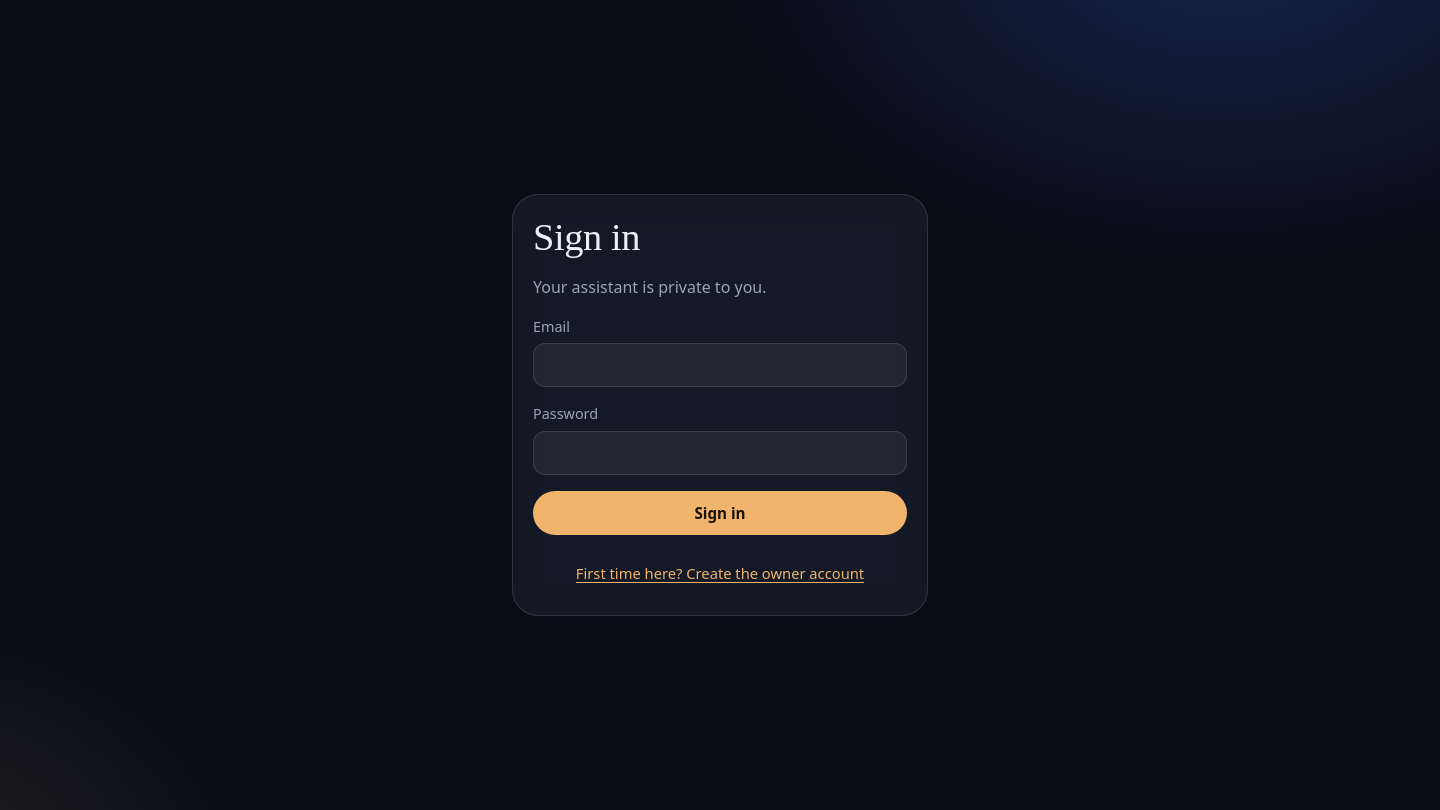
Test: AuthGate › creates the owner account, and reports when registration is closed
Click the button "First time here? Create the owner account" at point(720, 573), box [533,551,907,595]
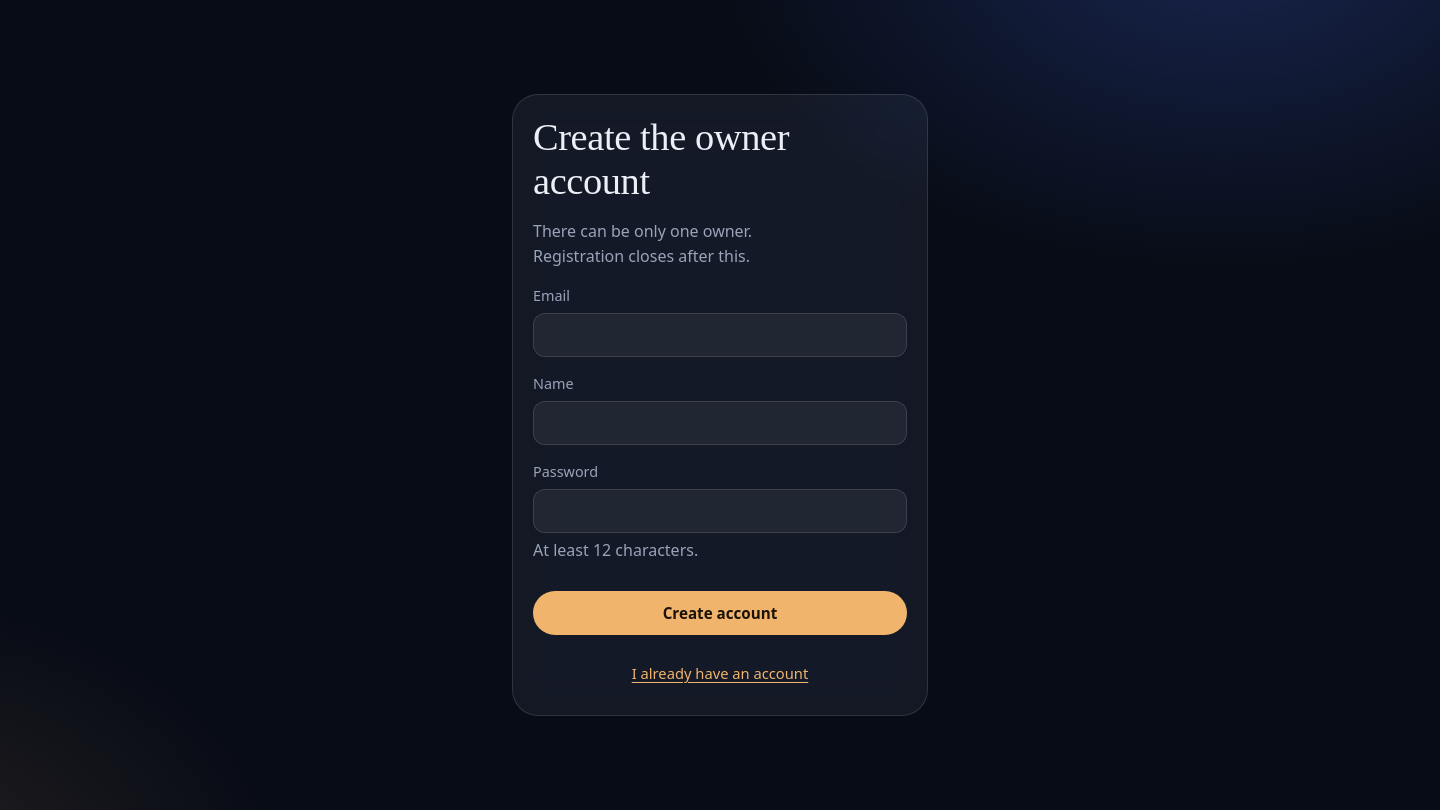
Now the field labelled "Name" is shown, box [533,401,907,445]
Type "new@example.test" into the field labelled "Email" at point(720, 335), box [533,313,907,357]
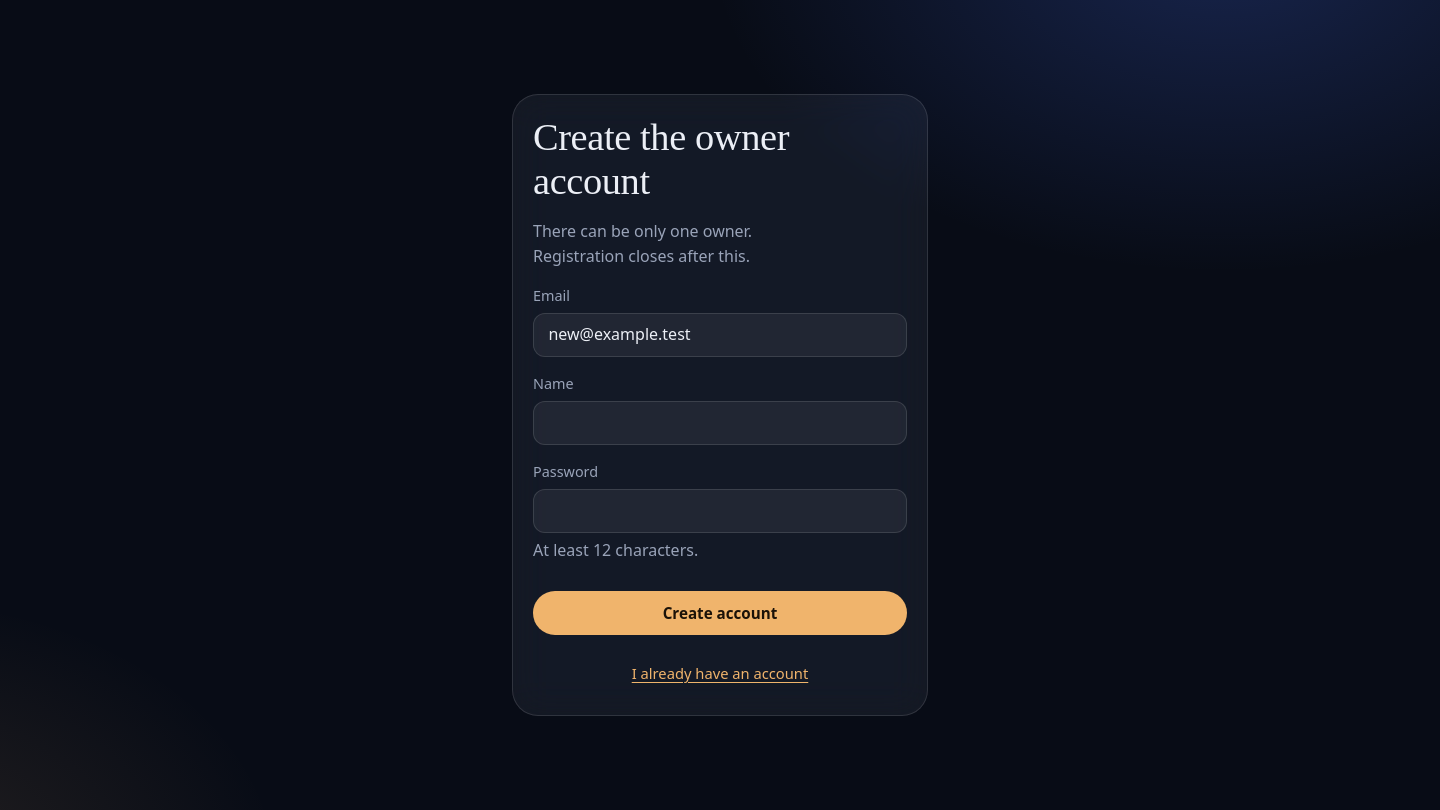
Type "New" into the field labelled "Name" at point(720, 423), box [533,401,907,445]
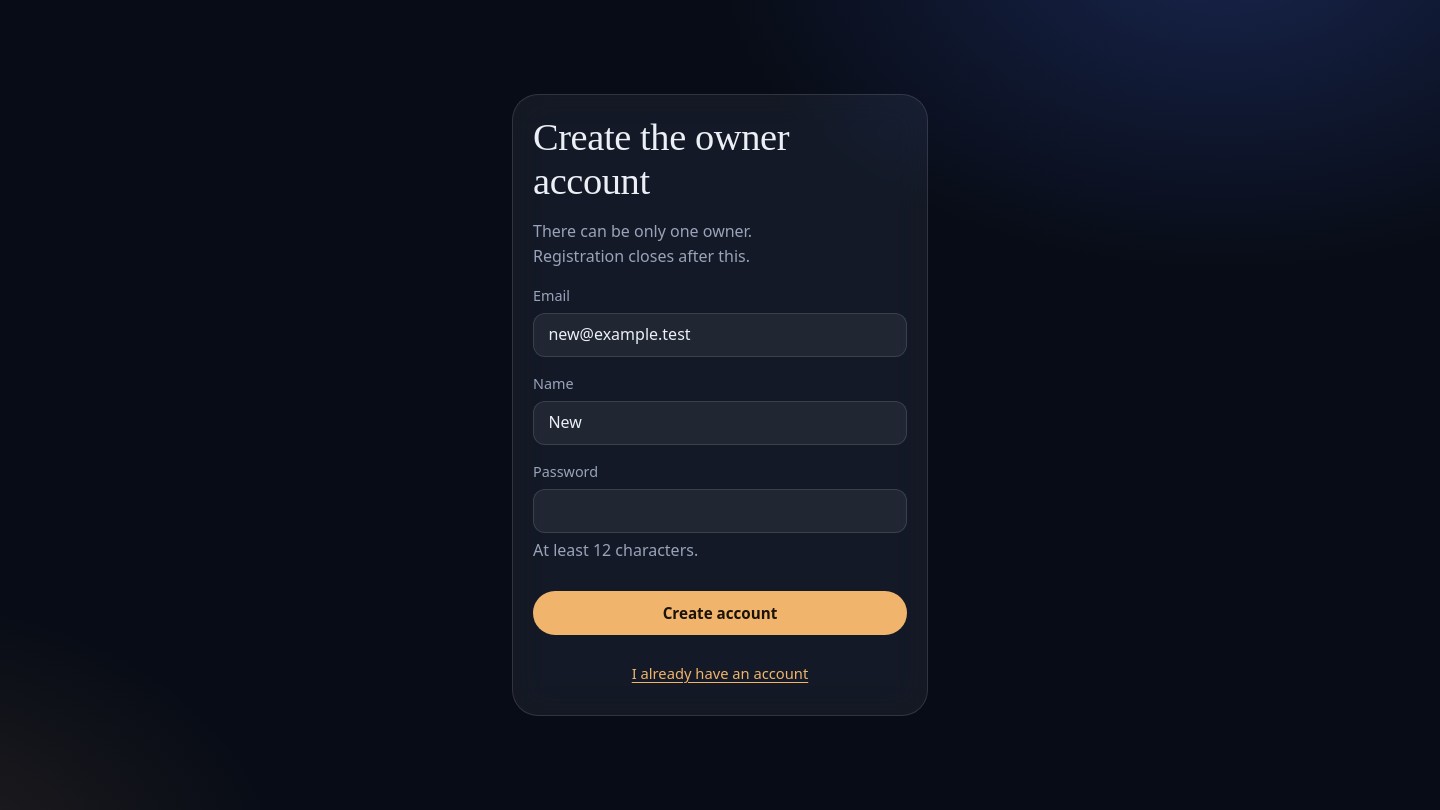
Type "a long enough passphrase" into the password field labelled "Password" at point(720, 511), box [533,489,907,533]
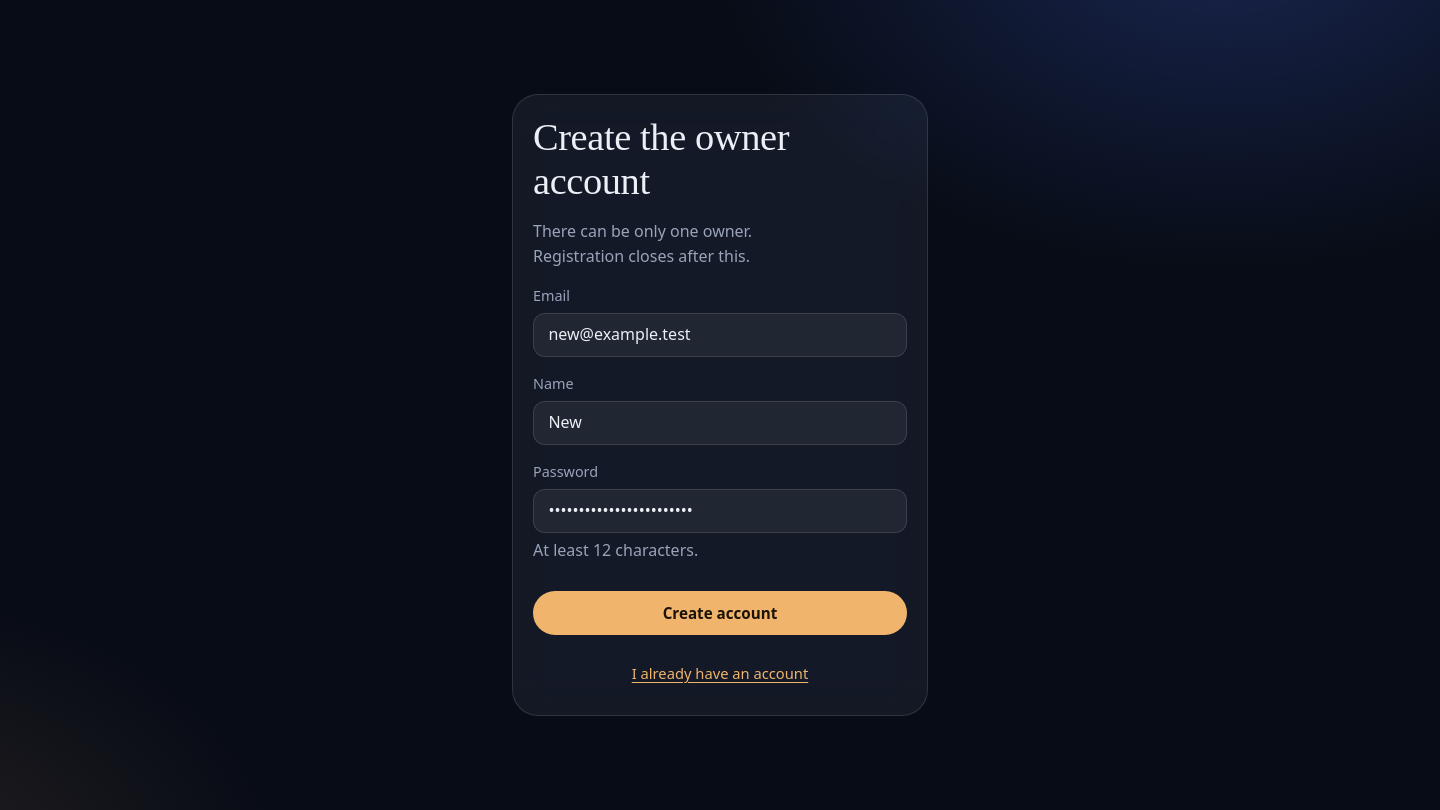
Click the button "Create account" at point(720, 613), box [533,591,907,635]
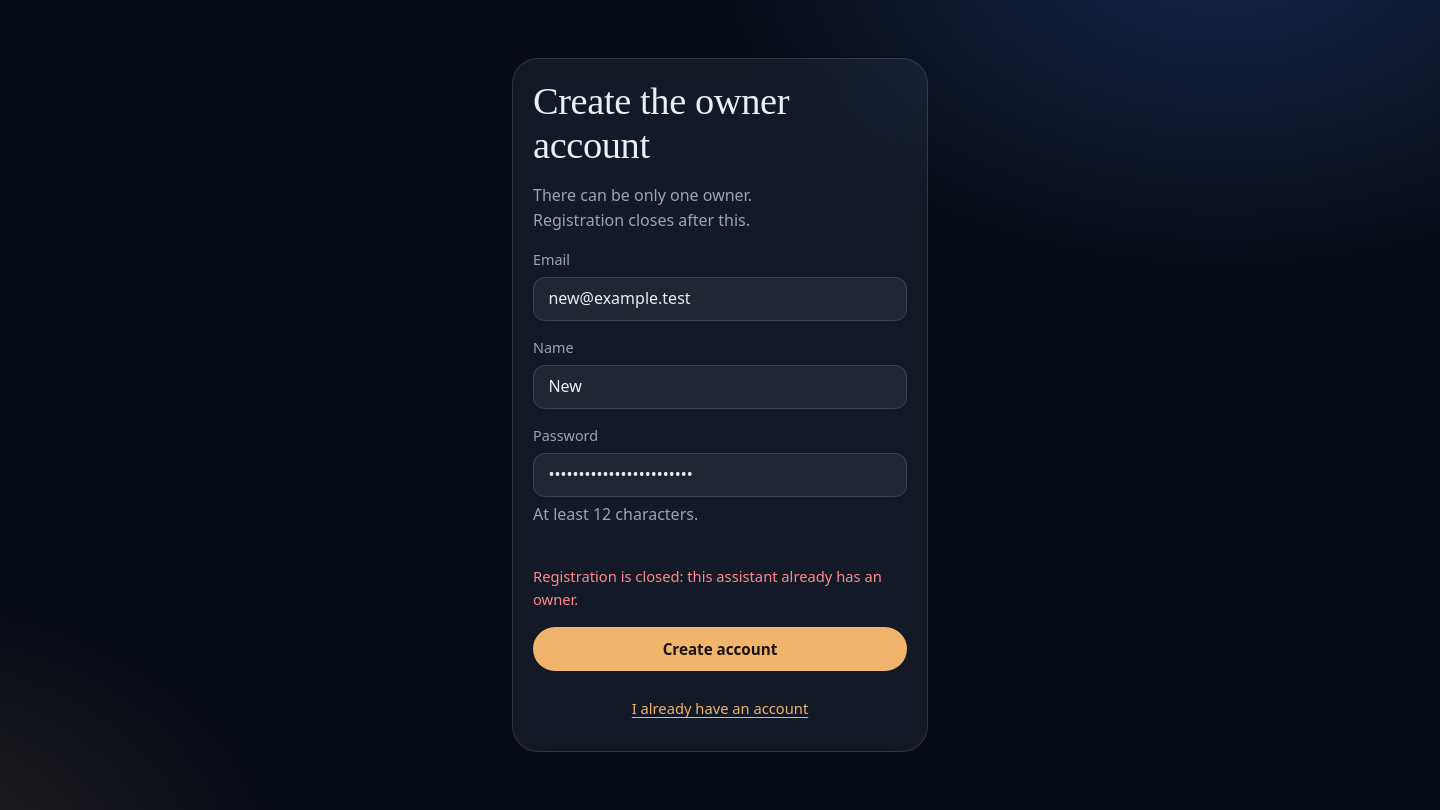
Now the message shows "Registration is closed", box [533,566,882,609]
